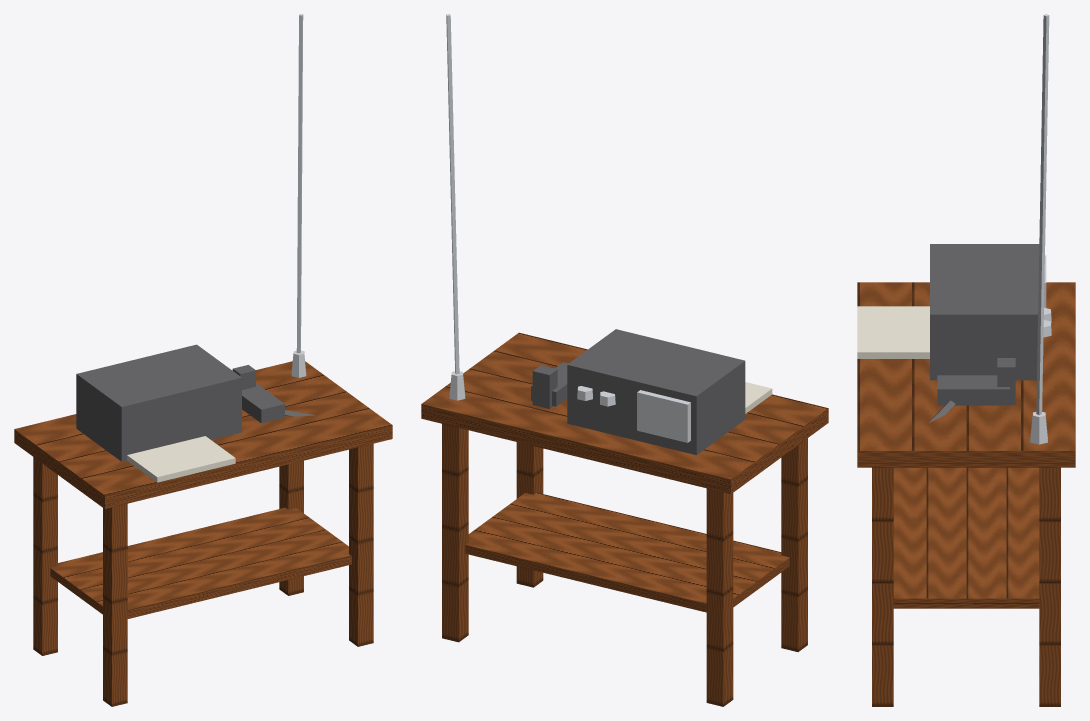
File: safari-camp-and-bush-lodge-radio-set-and-table-2307cab5__37700.glb
The picture shows the model from 3 angles, left to right: view 1: azimuth 30°, elevation 25°; view 2: azimuth 150°, elevation 25°; view 3: azimuth 270°, elevation 25°; orthographic projection. The views are drawn at different scales.
Parts seen in each view (by area): view 1: radio-set-and-table-timber, radio-set-and-table-charcoal, radio-set-and-table-canvas, radio-set-and-table-steel; view 2: radio-set-and-table-timber, radio-set-and-table-charcoal, radio-set-and-table-steel; view 3: radio-set-and-table-timber, radio-set-and-table-charcoal, radio-set-and-table-canvas, radio-set-and-table-steel.
Part boxes in pixels (<box>): radio-set-and-table-timber: <box>14,361,392,706</box>; radio-set-and-table-charcoal: <box>76,344,315,461</box>; radio-set-and-table-canvas: <box>127,436,235,482</box>; radio-set-and-table-steel: <box>291,14,306,377</box>; radio-set-and-table-timber: <box>421,332,828,706</box>; radio-set-and-table-charcoal: <box>531,329,745,454</box>; radio-set-and-table-steel: <box>446,14,690,442</box>; radio-set-and-table-timber: <box>857,282,1075,706</box>; radio-set-and-table-charcoal: <box>928,244,1039,422</box>; radio-set-and-table-canvas: <box>857,306,929,358</box>; radio-set-and-table-steel: <box>1030,14,1051,444</box>.
Size of the model in its own units: 1.1 by 2.1 by 0.6.
Materials: 4 (1 with a texture image).
